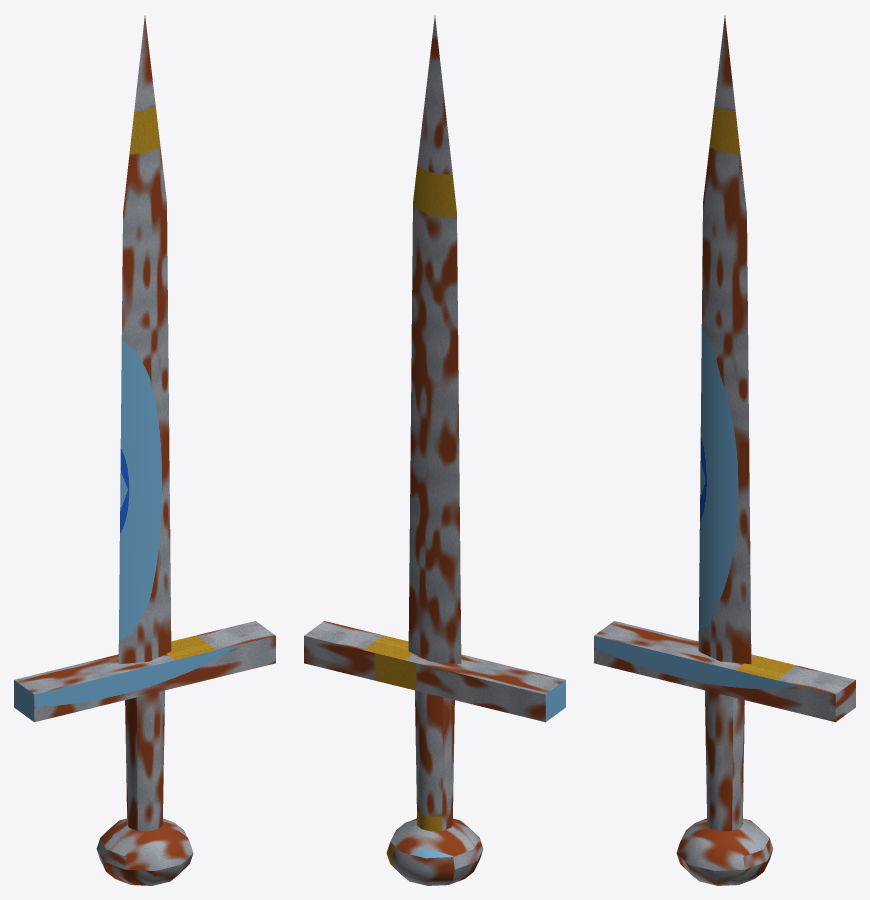
The model's file is polygen_a_rusty_medieval_broadsw_1fc39b6b_processed.obj.
3 views of the same model, side by side, from view 1: azimuth 30°, elevation 25°; view 2: azimuth 150°, elevation 25°; view 3: azimuth 330°, elevation 25° (orthographic).
Parts seen in each view (by area): view 1: polygen_a_rusty_medieval_broadsw_1fc39b6b_processed; view 2: polygen_a_rusty_medieval_broadsw_1fc39b6b_processed; view 3: polygen_a_rusty_medieval_broadsw_1fc39b6b_processed.
Boxes of the visible parts, left/top/right/bottom form: polygen_a_rusty_medieval_broadsw_1fc39b6b_processed: left=14, top=15, right=275, bottom=885; polygen_a_rusty_medieval_broadsw_1fc39b6b_processed: left=304, top=15, right=565, bottom=885; polygen_a_rusty_medieval_broadsw_1fc39b6b_processed: left=594, top=15, right=855, bottom=885.
Bounding box in the file's own units: 0.5839 × 1.99 × 0.1938.
